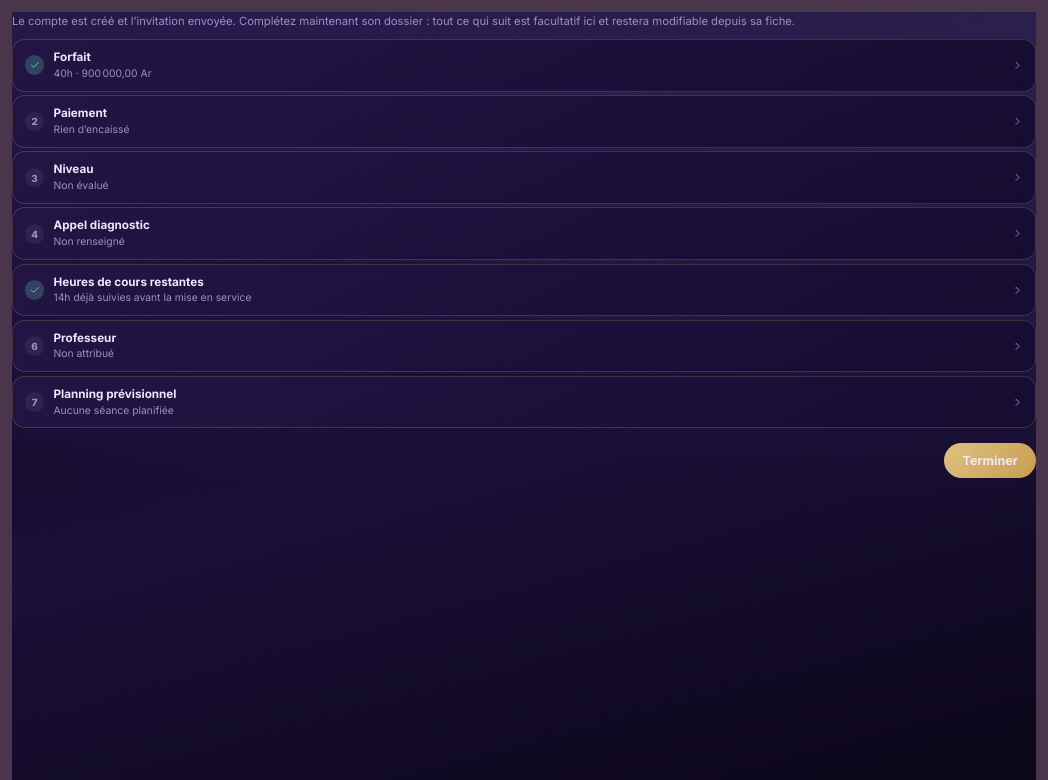
Test: CompleterDossierEtudiant › montre la reprise déjà enregistrée sans en proposer une seconde
This screenshot has width=1048, height=780.
Expected: the text "14h déjà suivies avant la mise en service" is shown, [54, 291, 252, 303]
Click the button "Heures de cours restantes" at (129, 282), box [13, 265, 1035, 315]
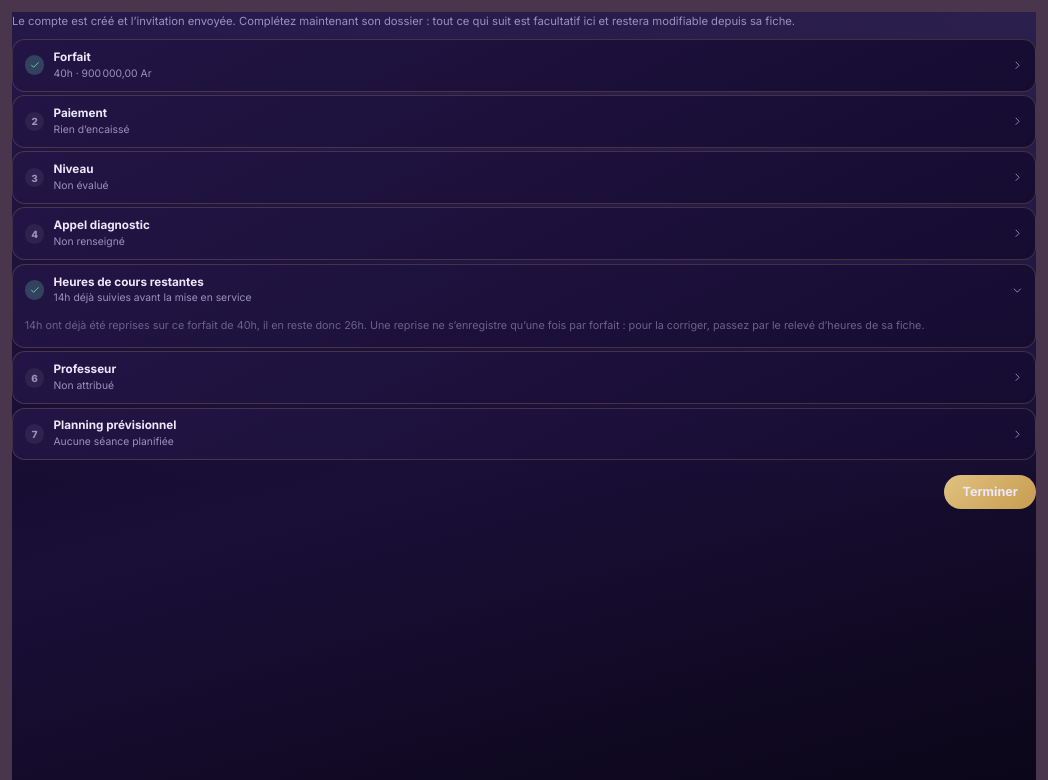
Now the text "il en reste donc 26h" is shown, box [25, 317, 1023, 334]
